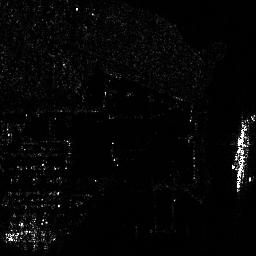ship: (236, 133, 251, 193), (2, 230, 58, 244)
